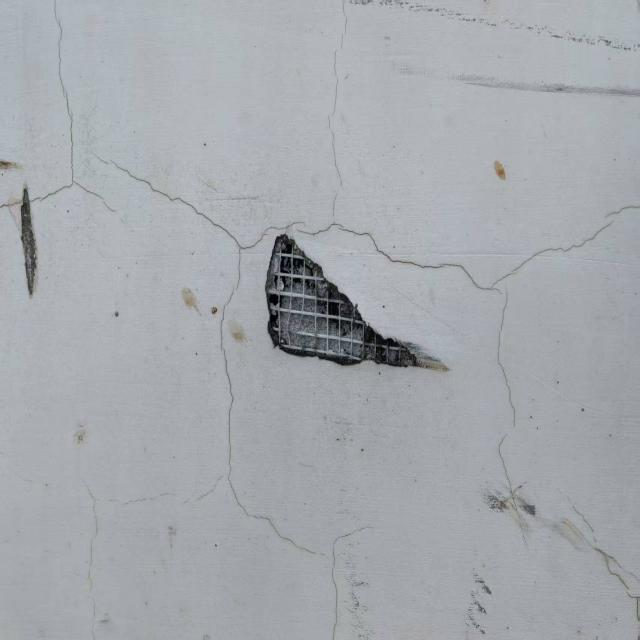crack: (94, 5, 634, 563), (4, 7, 121, 223), (568, 492, 640, 619), (323, 517, 376, 637)
mildew: (18, 180, 36, 298)
spalling: (258, 232, 453, 380)
